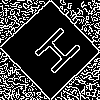H: (25, 24, 84, 83)
